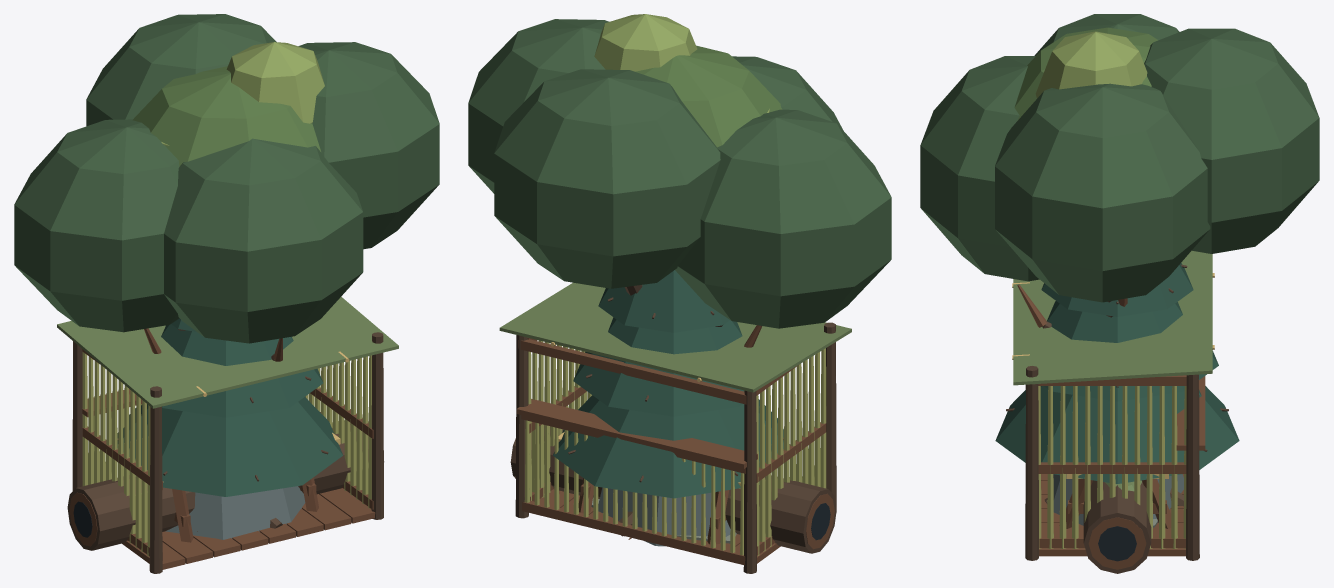
Rendered from reserve-kit.glb.
3 renders of one model, left to right at view 1: azimuth 30°, elevation 25°; view 2: azimuth 150°, elevation 25°; view 3: azimuth 270°, elevation 25°, orthographic. The views are drawn at different scales.
Parts seen in each view (by area): view 1: OakTree, ObservationBlind, PineTree, FallenTrunk, BirchTree, Boulder, CampTable; view 2: OakTree, ObservationBlind, PineTree, FallenTrunk, BirchTree, Boulder, CampTable; view 3: OakTree, ObservationBlind, PineTree, FallenTrunk, BirchTree, CampTable, Boulder.
Boxes of the visible parts, left/top/right/bottom form: OakTree: left=14, top=14, right=439, bottom=531; ObservationBlind: left=57, top=296, right=398, bottom=573; PineTree: left=117, top=318, right=343, bottom=496; FallenTrunk: left=67, top=421, right=384, bottom=550; BirchTree: left=161, top=42, right=324, bottom=145; Boulder: left=165, top=486, right=305, bottom=539; CampTable: left=163, top=432, right=340, bottom=542; OakTree: left=468, top=19, right=891, bottom=536; ObservationBlind: left=499, top=282, right=851, bottom=573; PineTree: left=553, top=270, right=789, bottom=498; FallenTrunk: left=510, top=425, right=836, bottom=553; BirchTree: left=594, top=14, right=769, bottom=112; Boulder: left=598, top=487, right=730, bottom=546; CampTable: left=558, top=432, right=740, bottom=544; OakTree: left=920, top=14, right=1319, bottom=506; ObservationBlind: left=1012, top=250, right=1214, bottom=560; PineTree: left=995, top=263, right=1239, bottom=483; FallenTrunk: left=1083, top=480, right=1151, bottom=573; BirchTree: left=1035, top=31, right=1147, bottom=98; CampTable: left=1059, top=474, right=1171, bottom=528; Boulder: left=1053, top=474, right=1183, bottom=525.
Size of the model in its own units: 4.72 by 5.44 by 4.02.
